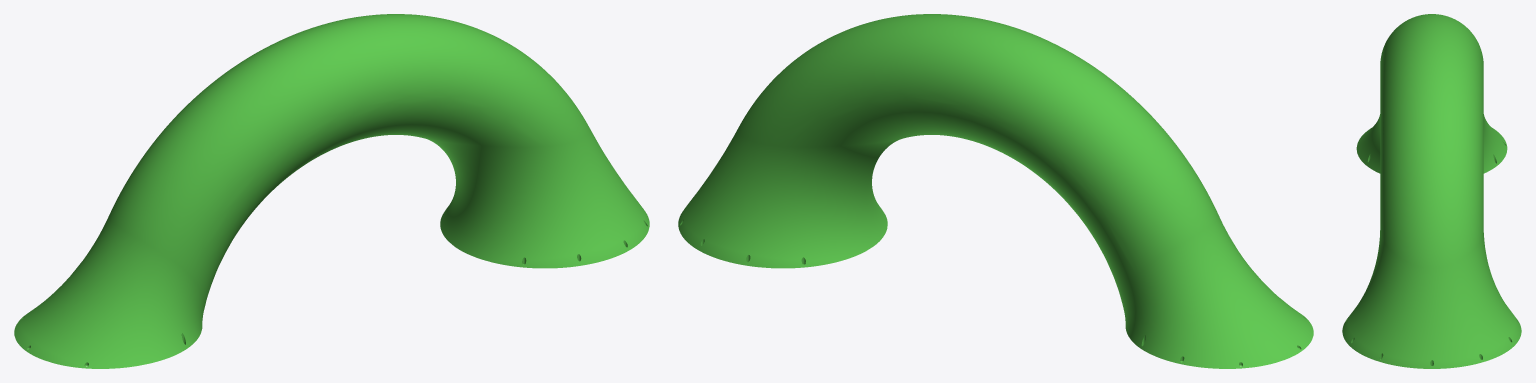
File: hold_phone_big.glb
3 views of the same model, side by side, from view 1: azimuth 30°, elevation 25°; view 2: azimuth 150°, elevation 25°; view 3: azimuth 270°, elevation 25° (orthographic). The views are drawn at different scales.
Visible parts, largest first — view 1: Object_2; view 2: Object_2; view 3: Object_2.
Part boxes in pixels (x1,y1,x2,y2): Object_2: (14,14,649,368); Object_2: (678,14,1313,368); Object_2: (1342,14,1521,368).
Size of the model in its own units: 1164 by 450 by 346.
